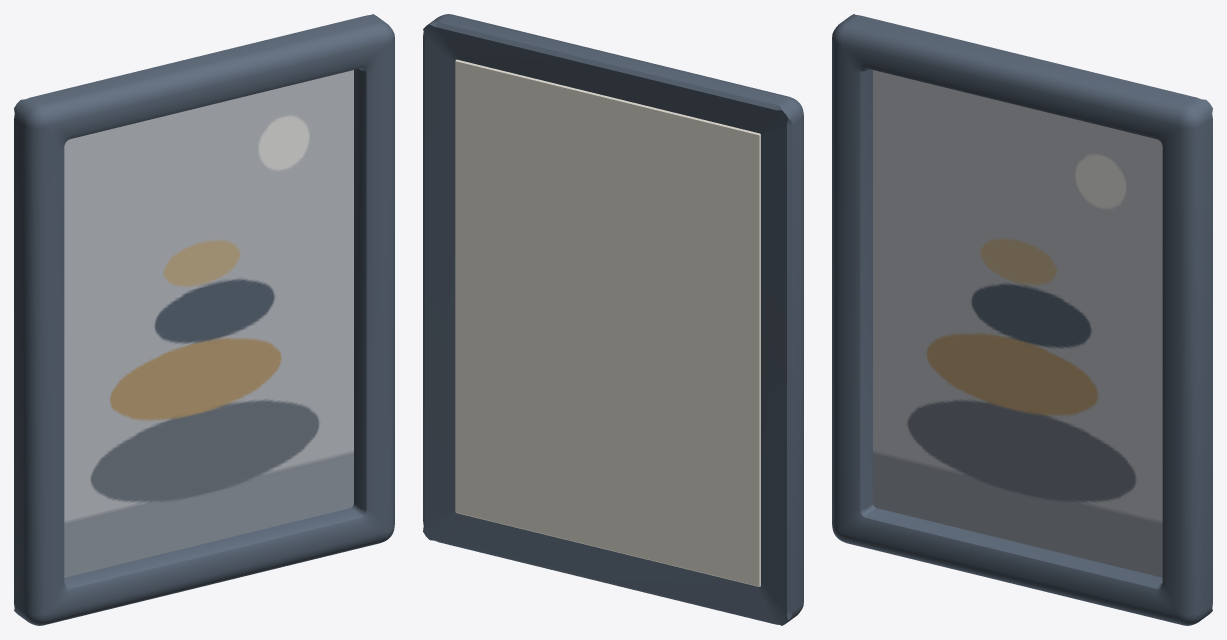
Rendered from quadro_pedras_empilhadas.glb.
The picture shows the model from 3 angles, left to right: view 1: azimuth 30°, elevation 25°; view 2: azimuth 150°, elevation 25°; view 3: azimuth 330°, elevation 25°; orthographic projection.
Visible parts, largest first — view 1: quadro_pedras_empilhadas; view 2: quadro_pedras_empilhadas; view 3: quadro_pedras_empilhadas.
Part boxes in pixels (bbox=[...]): quadro_pedras_empilhadas: bbox=[14, 14, 394, 625]; quadro_pedras_empilhadas: bbox=[423, 14, 803, 625]; quadro_pedras_empilhadas: bbox=[832, 14, 1212, 625].
Bounding box in the file's own units: 0.372 × 0.5006 × 0.035.
Materials: 2 (2 with a texture image).
